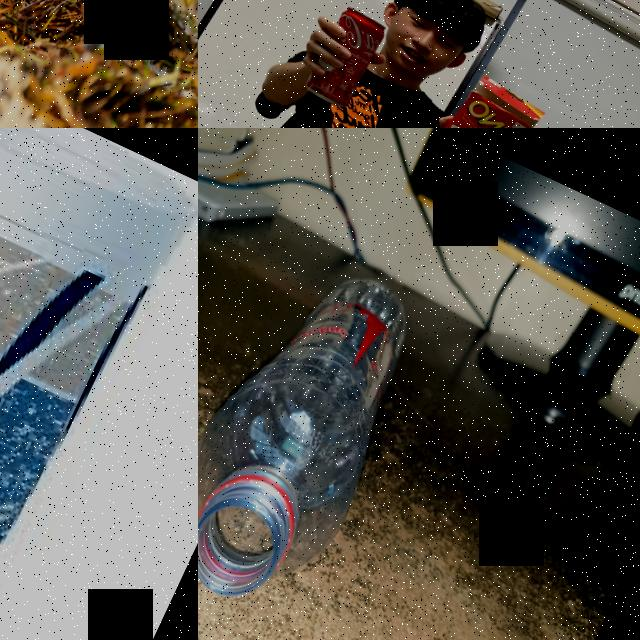bottle: (198, 233, 451, 633)
can: (302, 2, 391, 113)
cup: (0, 128, 198, 640)
